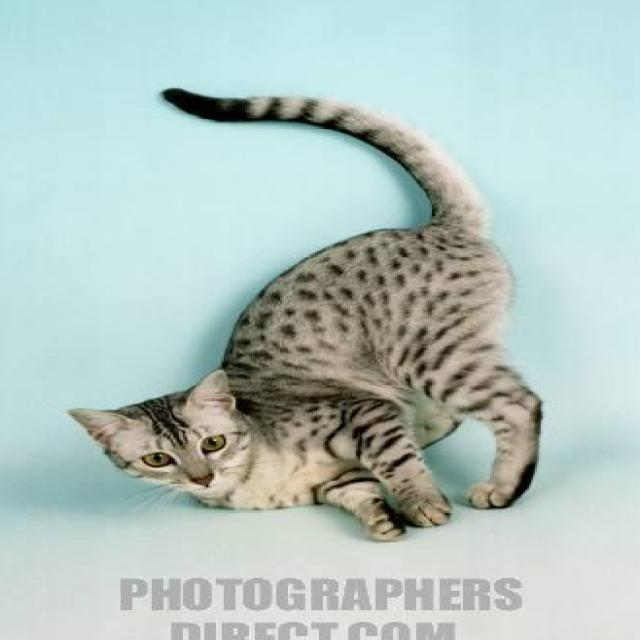Egyptian Mau: (61, 80, 552, 549)
